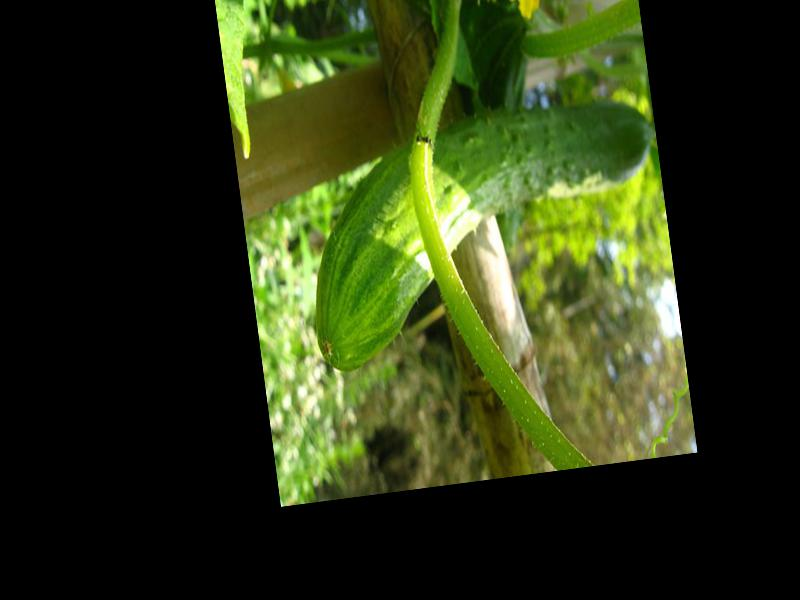Cucumber: (291, 92, 677, 371)
